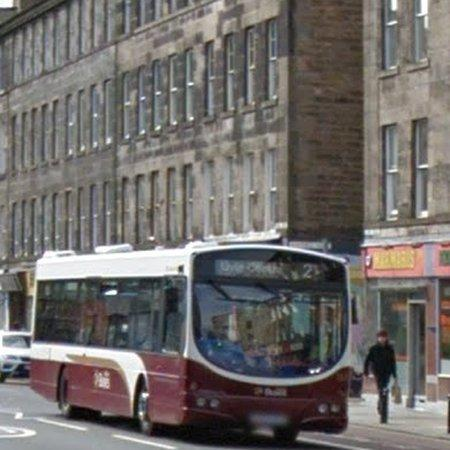buses: (31, 245, 352, 444)
